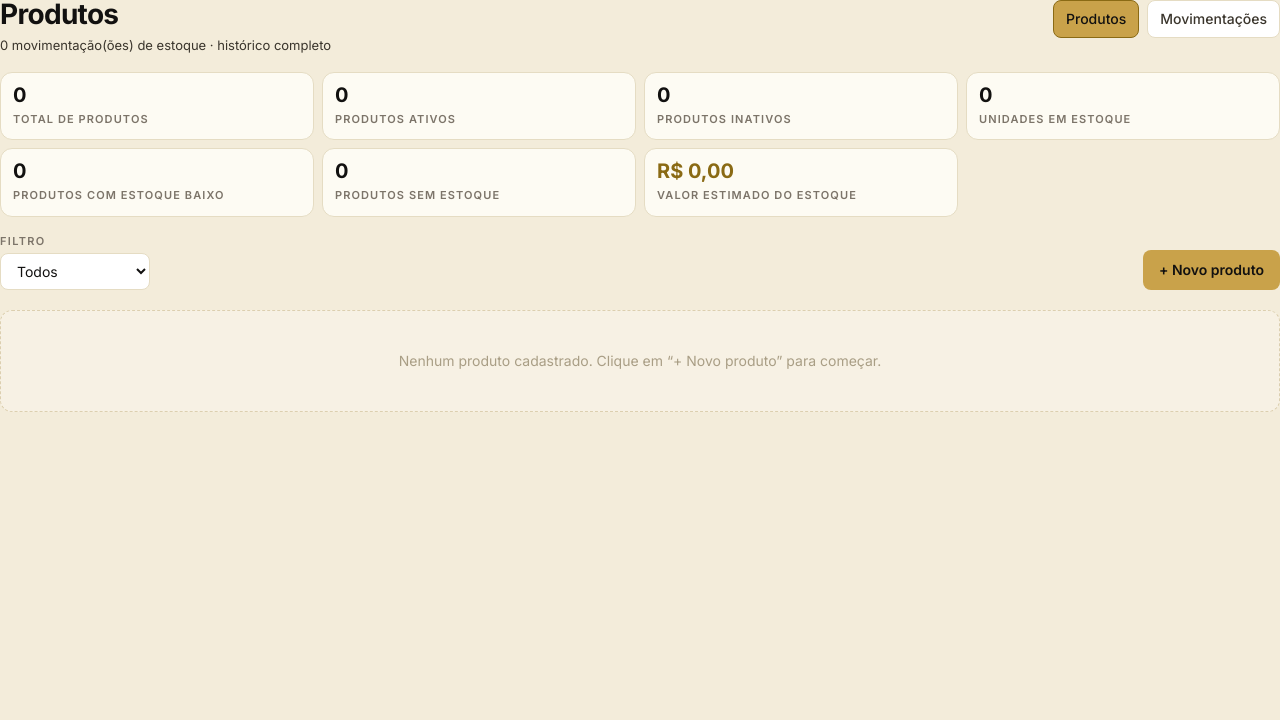
Página Produtos — cadastro mínimo › cadastra produto e mostra na lista como Ativo
Click the button "+ Novo produto": (1212,270) [1143,250,1279,290]
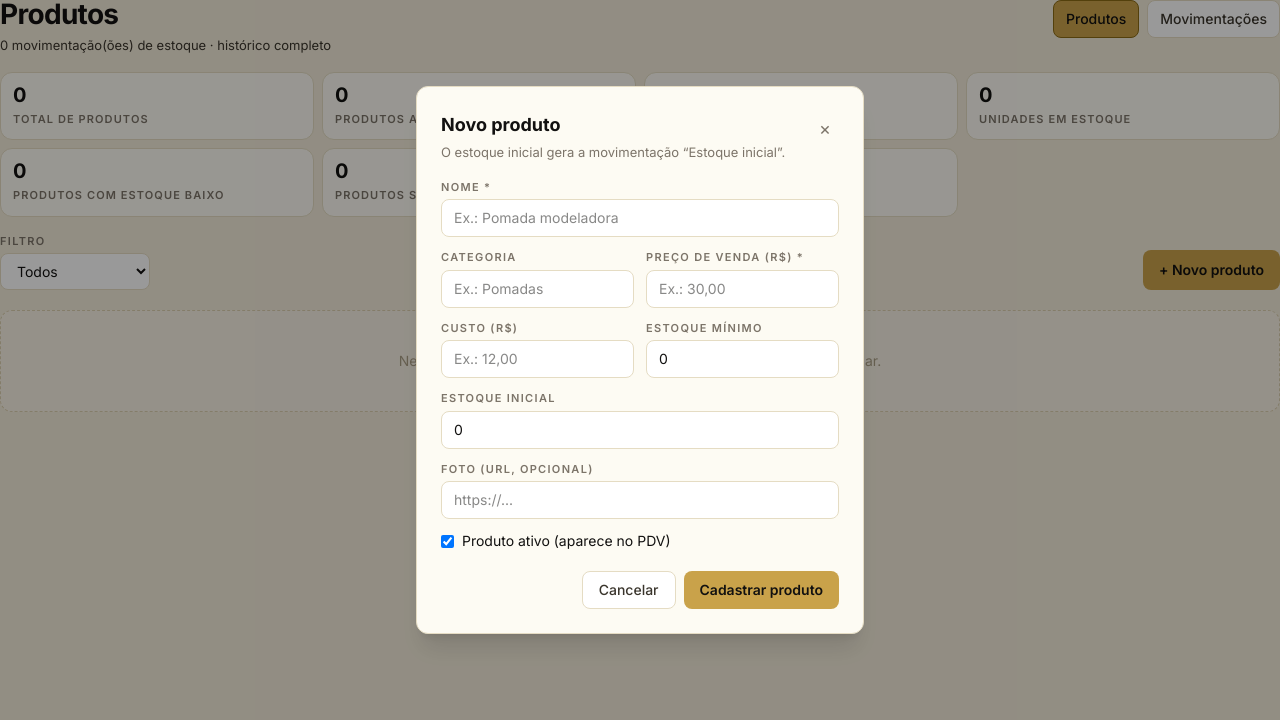
In the field labelled "Nome *": (640,218) [441,199,839,237], type "Creme capilar"
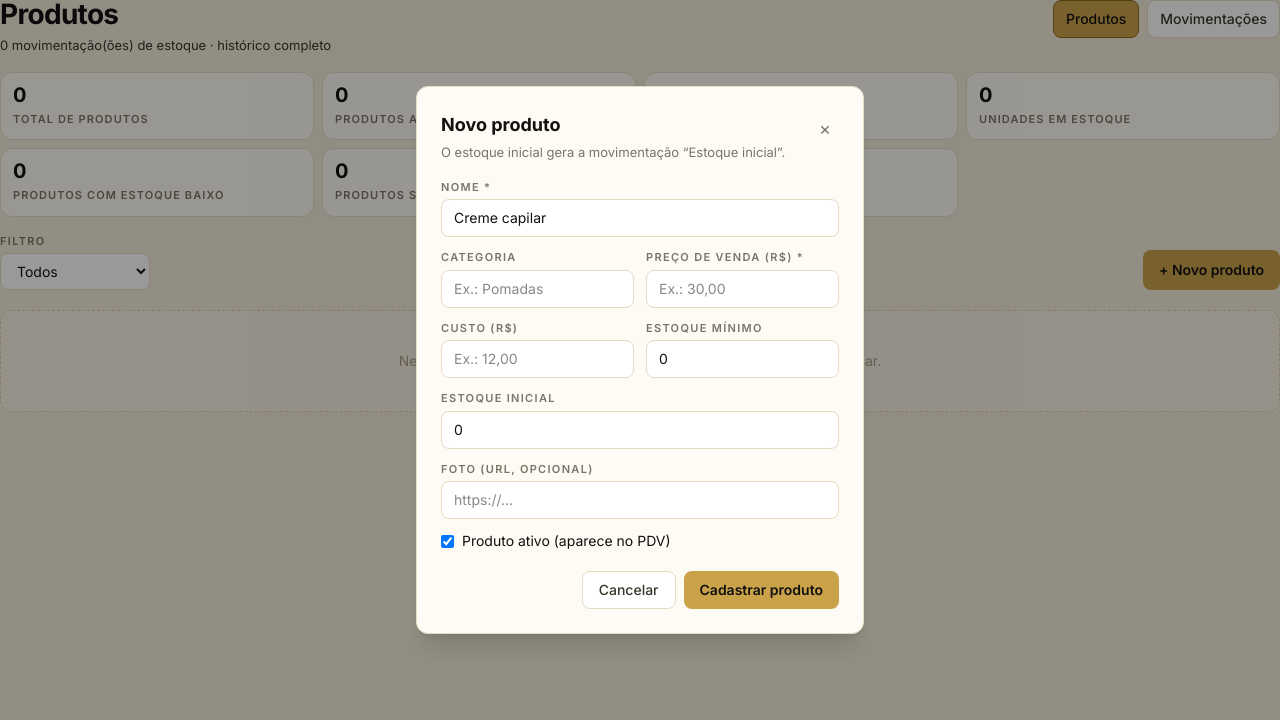
In the field labelled "Preço de venda (R$) *": (742,288) [646,270,839,308], type "30,00"
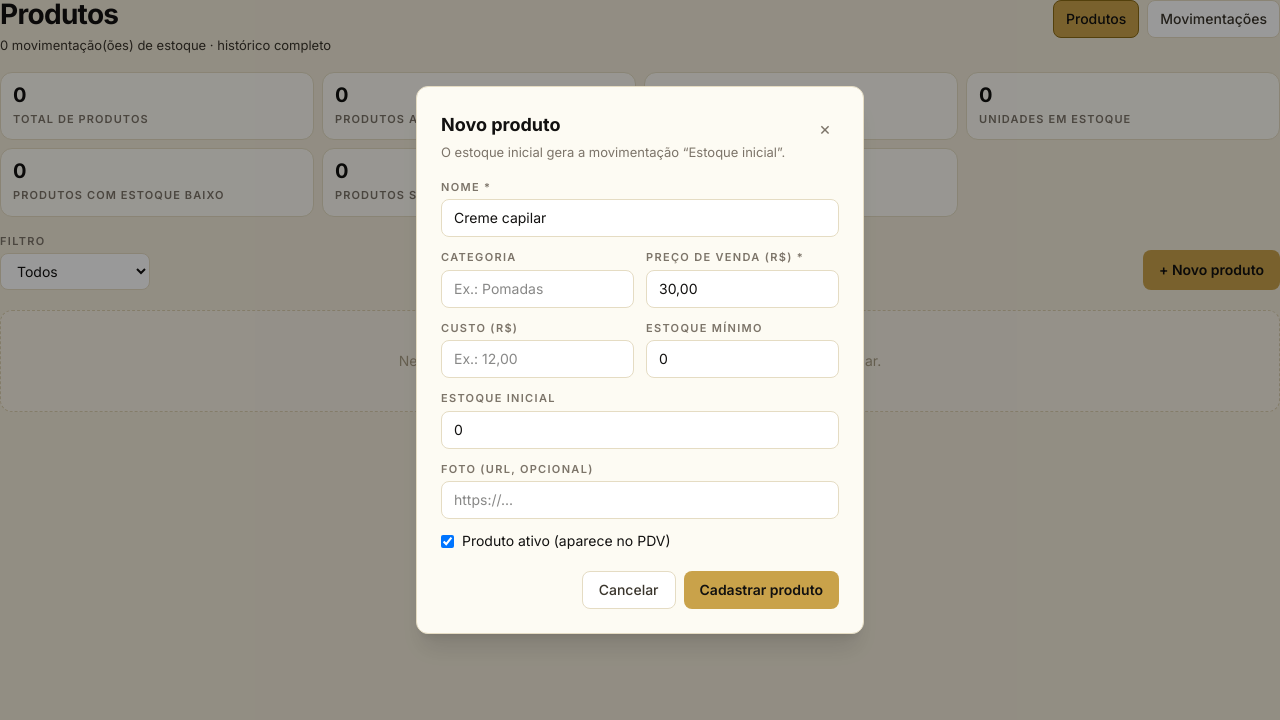
Click the button "Cadastrar produto": (761,590) [684,571,839,609]
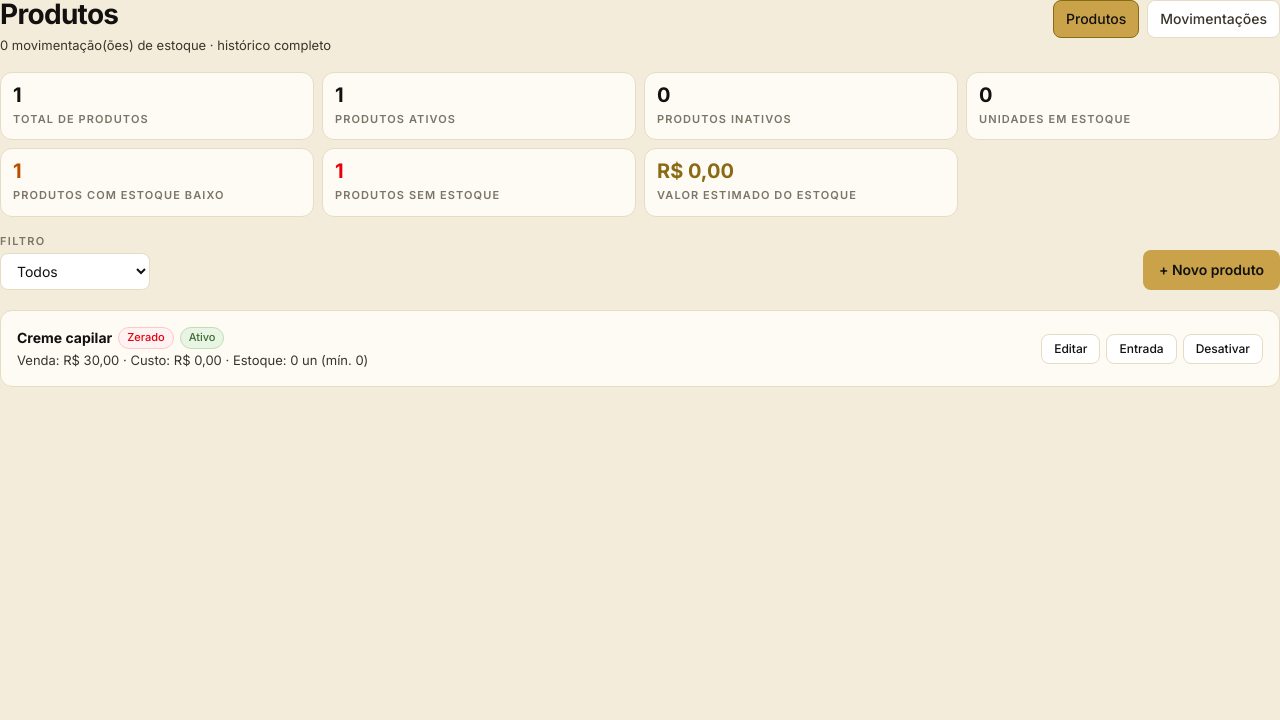
Check: the text "Ativo" is shown, box [180,327,224,349]
Check: the text "Creme capilar" is shown, box [17,328,112,348]
Check: the text "Nenhum produto cadastrado" is gone
